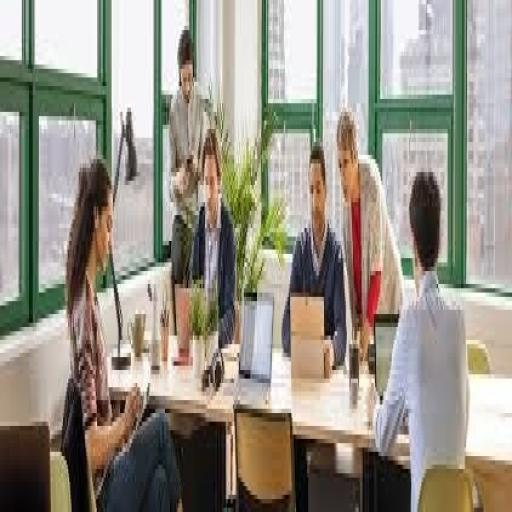sitting: (62, 155, 186, 508), (371, 164, 471, 508), (334, 104, 405, 362), (280, 138, 347, 370), (187, 125, 238, 348)
